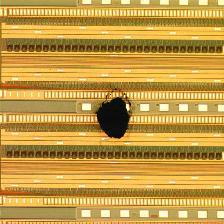PARTICLE: (88, 86, 144, 142)
